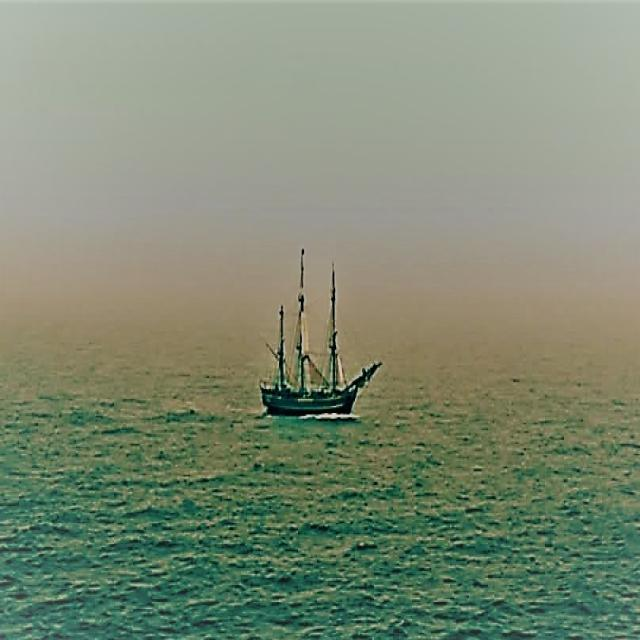fishing boat: (260, 244, 373, 418)
